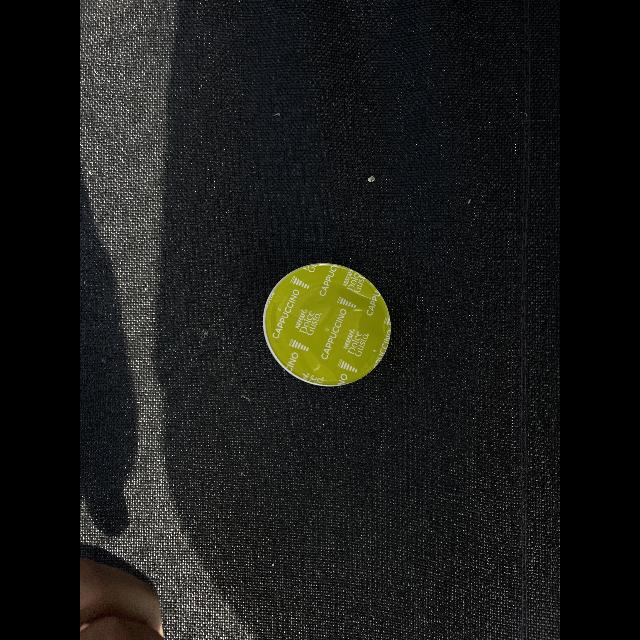intact_capsule: (253, 252, 397, 398)
